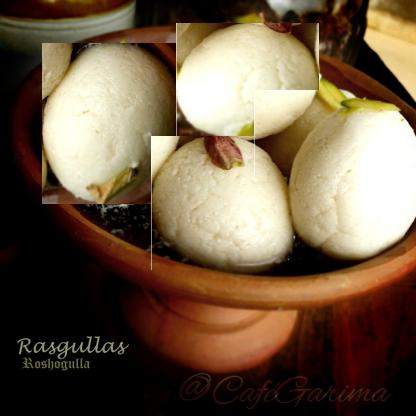rasgulla: (41, 42, 181, 204), (151, 136, 292, 270), (176, 22, 319, 140), (254, 90, 357, 180), (289, 258, 291, 261)
